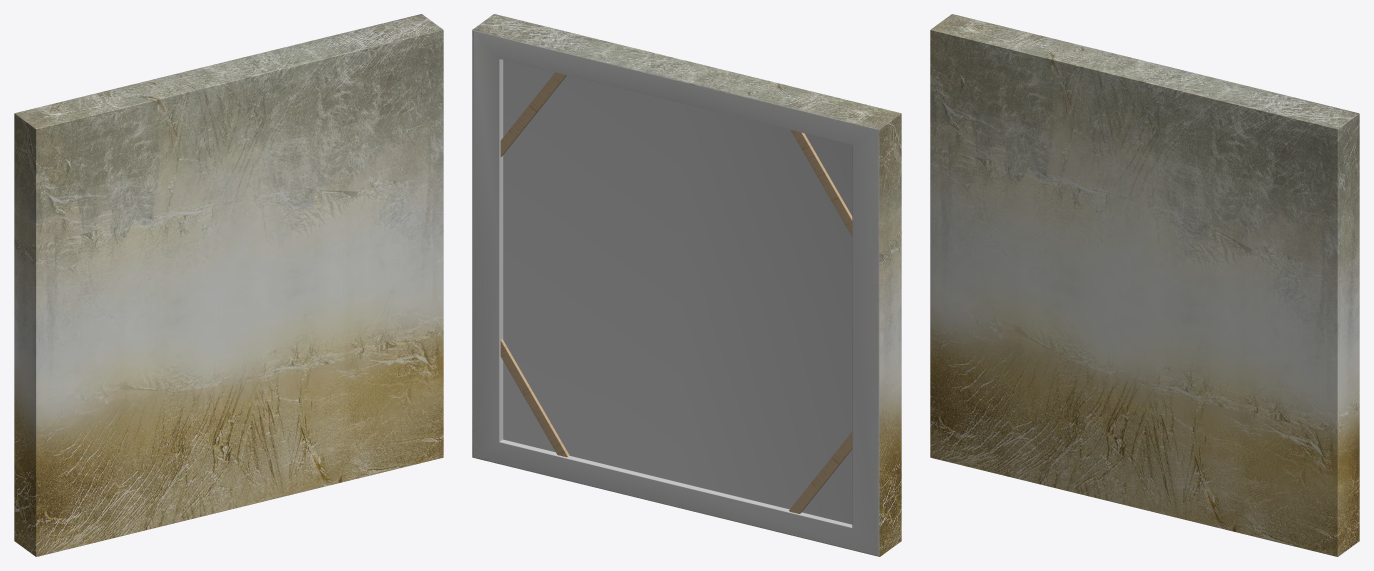
The model's file is B073P1CJLR.glb.
3 views of the same model, side by side, from view 1: azimuth 30°, elevation 25°; view 2: azimuth 150°, elevation 25°; view 3: azimuth 330°, elevation 25° (orthographic).
Visible parts, largest first — view 1: RootNode; view 2: RootNode; view 3: RootNode.
Part boxes in pixels (x1=…): RootNode: x1=14, y1=14, x2=443, y2=556; RootNode: x1=472, y1=14, x2=901, y2=556; RootNode: x1=930, y1=14, x2=1359, y2=556.
Size of the model in its own units: 0.4054 by 0.4067 by 0.038.
Materials: 1 (1 with a texture image).
